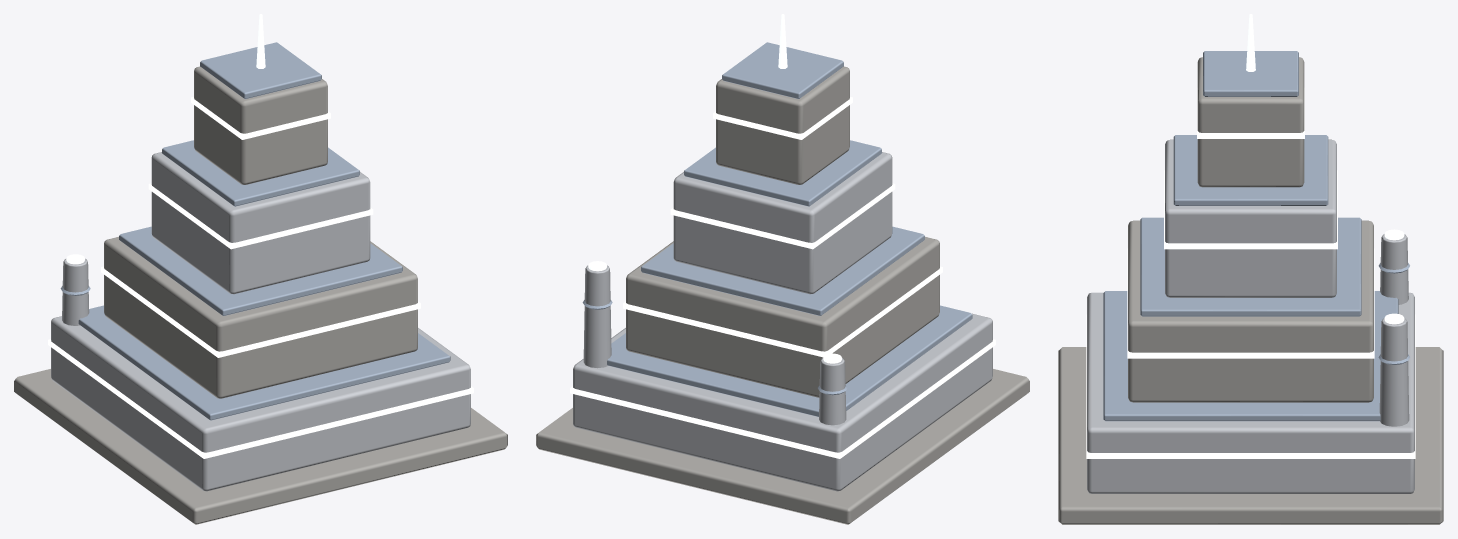
The model's file is megaplex.glb.
3 renders of one model, left to right at view 1: azimuth 30°, elevation 25°; view 2: azimuth 150°, elevation 25°; view 3: azimuth 270°, elevation 25°, orthographic. The views are drawn at different scales.
Parts seen in each view (by area): view 1: megaplex; view 2: megaplex; view 3: megaplex.
Boxes of the visible parts, <box> form: megaplex: <box>14,14,507,524</box>; megaplex: <box>536,14,1029,524</box>; megaplex: <box>1058,14,1443,524</box>.
Size of the model in its own units: 0.94 by 1.16 by 0.94.
